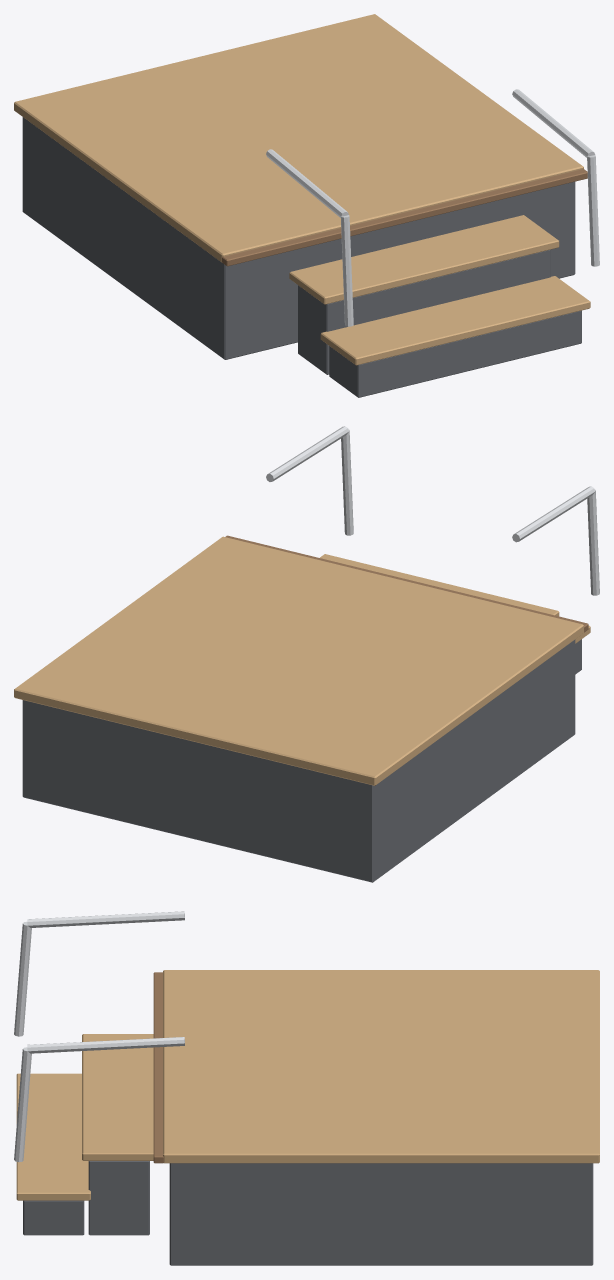
3 renders of one model, top to bottom at view 1: azimuth 30°, elevation 25°; view 2: azimuth 150°, elevation 25°; view 3: azimuth 270°, elevation 25°, orthographic. The views are drawn at different scales.
Parts seen in each view (by area): view 1: stage-platform-module-steps; view 2: stage-platform-module-steps; view 3: stage-platform-module-steps.
Part boxes in pixels (x1,y1,x2,y2): stage-platform-module-steps: (14, 14, 599, 397); stage-platform-module-steps: (14, 426, 599, 882); stage-platform-module-steps: (14, 911, 599, 1265).
Size of the model in its own units: 2 by 1.04 by 2.68.
